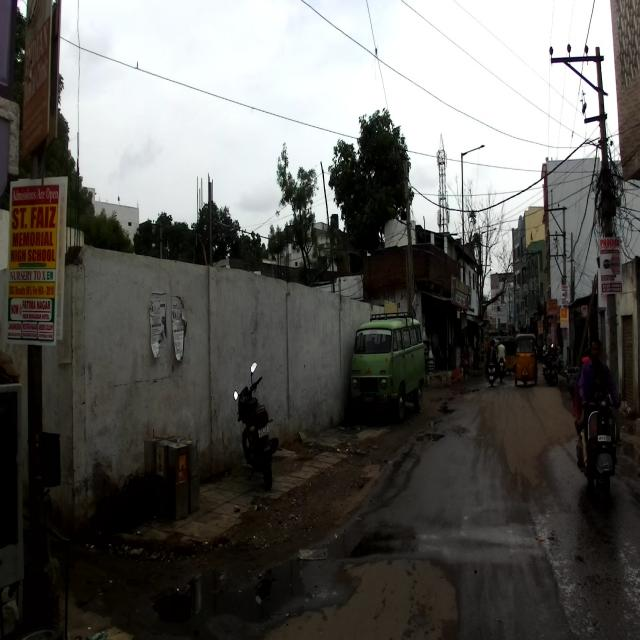mini-bus: (350, 310, 425, 418)
motorcycle_bajaj: (232, 360, 279, 492)
scooter: (574, 386, 621, 504)
